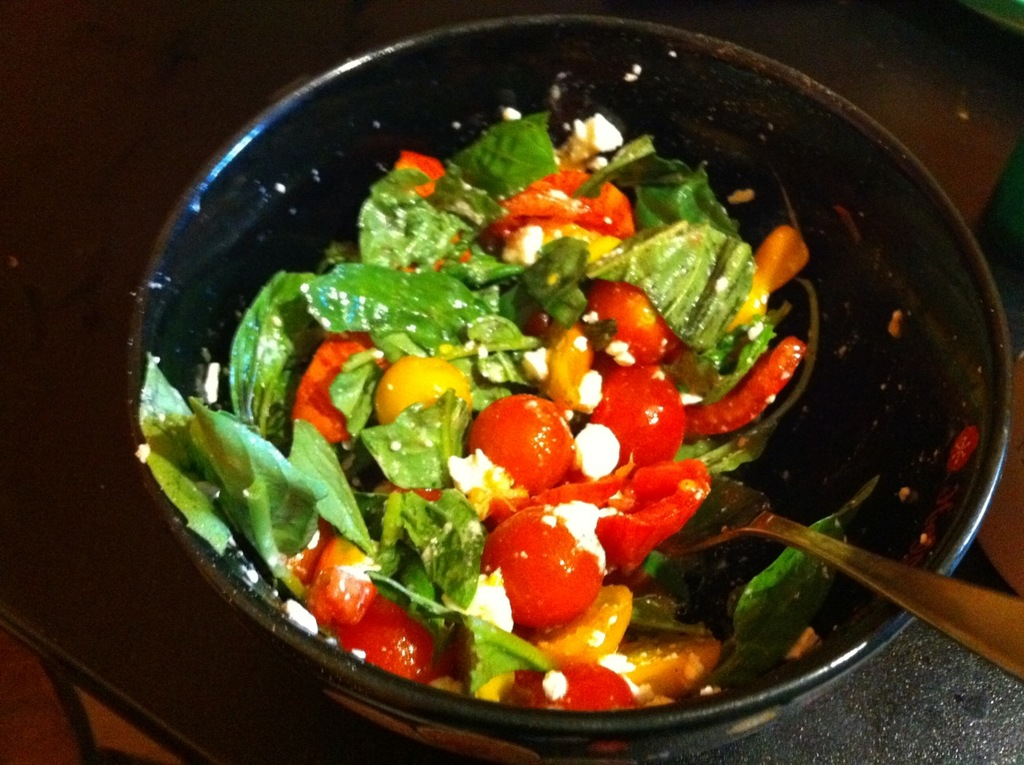Tomato: (484, 497, 619, 632)
